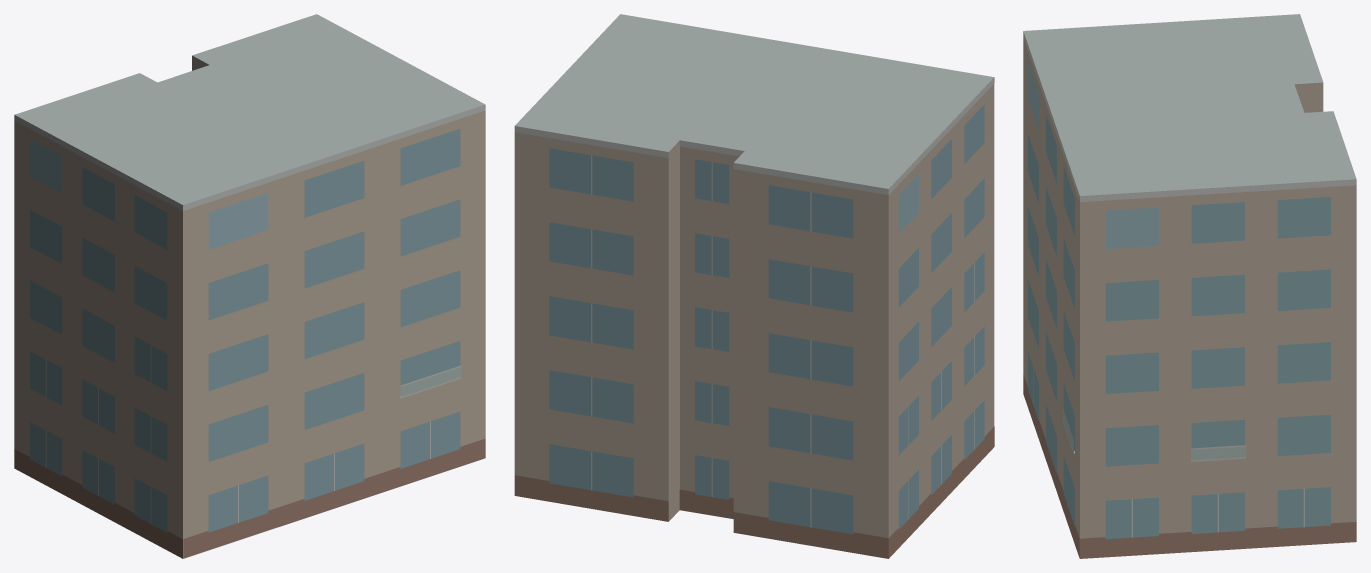
Rendered from survey-upis-32577309.glb.
3 renders of one model, left to right at view 1: azimuth 30°, elevation 25°; view 2: azimuth 150°, elevation 25°; view 3: azimuth 270°, elevation 25°, orthographic. The views are drawn at different scales.
Parts seen in each view (by area): view 1: survey-upis-32577309.tmp; view 2: survey-upis-32577309.tmp; view 3: survey-upis-32577309.tmp.
Part boxes in pixels (x1=…): survey-upis-32577309.tmp: x1=14, y1=14, x2=485, y2=558; survey-upis-32577309.tmp: x1=514, y1=14, x2=994, y2=558; survey-upis-32577309.tmp: x1=1023, y1=14, x2=1356, y2=558.
Bounding box in the file's own units: 15.84 × 14.7 × 12.25.
